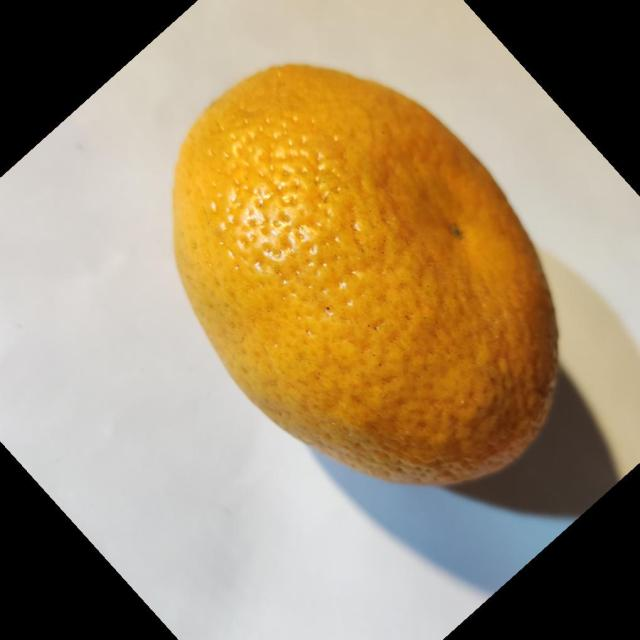fresh orange: (171, 61, 560, 487)
